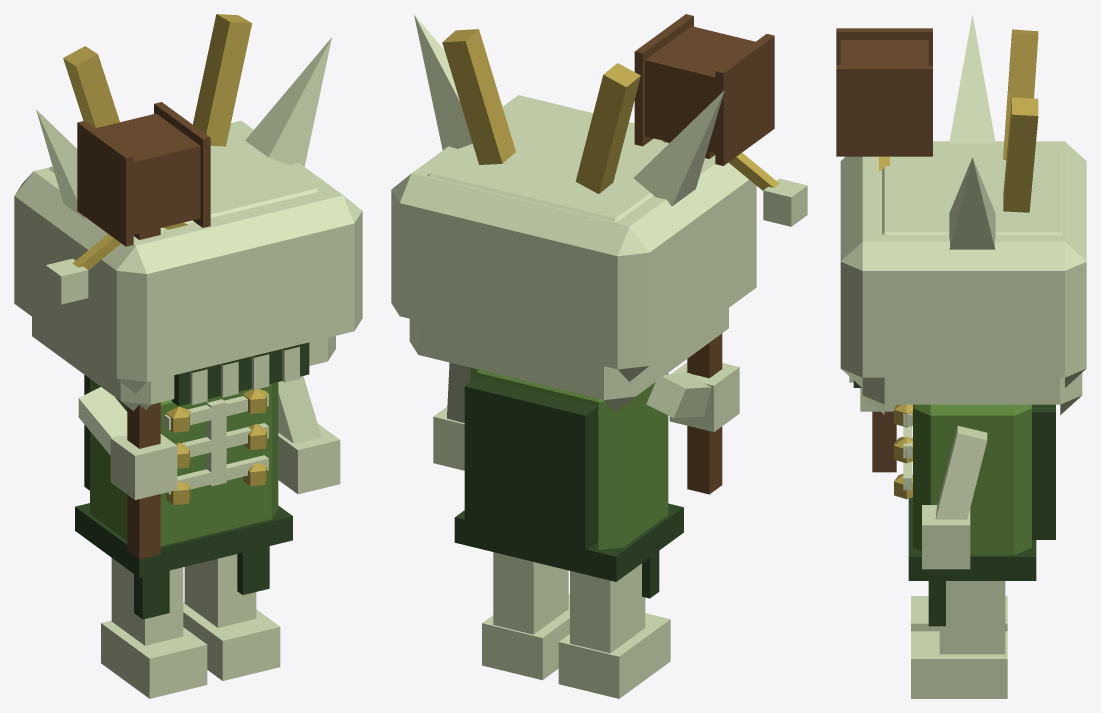
The model's file is weakener_r6.glb.
3 views of the same model, side by side, from view 1: azimuth 30°, elevation 25°; view 2: azimuth 150°, elevation 25°; view 3: azimuth 270°, elevation 25° (orthographic). The views are drawn at different scales.
Parts seen in each view (by area): view 1: weakener_r6_mesh; view 2: weakener_r6_mesh; view 3: weakener_r6_mesh.
Part boxes in pixels (bbox=[...]): weakener_r6_mesh: bbox=[14, 14, 362, 698]; weakener_r6_mesh: bbox=[391, 14, 807, 698]; weakener_r6_mesh: bbox=[836, 14, 1086, 698].
Size of the model in its own units: 0.8901 by 1.6 by 0.6039.
Materials: 1 (1 with a texture image).
